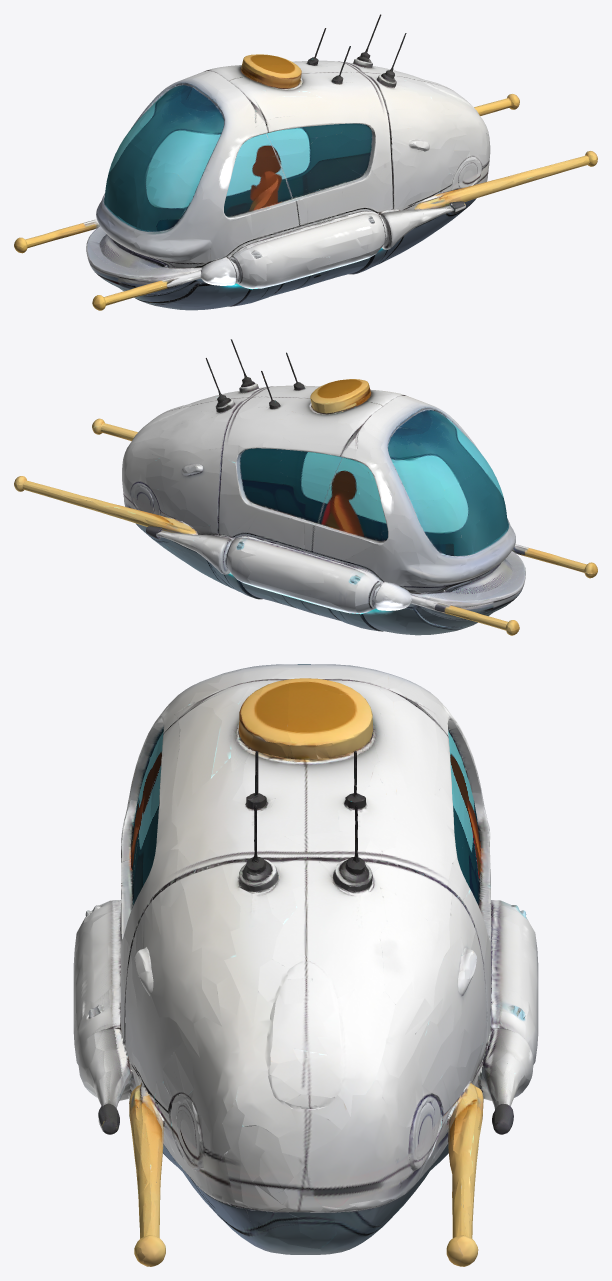
The model's file is transit-skyrail-pod-mesh.glb.
3 renders of one model, top to bottom at view 1: azimuth 30°, elevation 25°; view 2: azimuth 150°, elevation 25°; view 3: azimuth 270°, elevation 25°, orthographic. The views are drawn at different scales.
Parts seen in each view (by area): view 1: Mesh_0; view 2: Mesh_0; view 3: Mesh_0.
Boxes of the visible parts, bbox=[...] form: Mesh_0: bbox=[14, 14, 597, 310]; Mesh_0: bbox=[14, 339, 597, 635]; Mesh_0: bbox=[73, 664, 538, 1266].
Size of the model in its own units: 1.9 by 0.8376 by 0.7582.
1 material, 1 textured.
